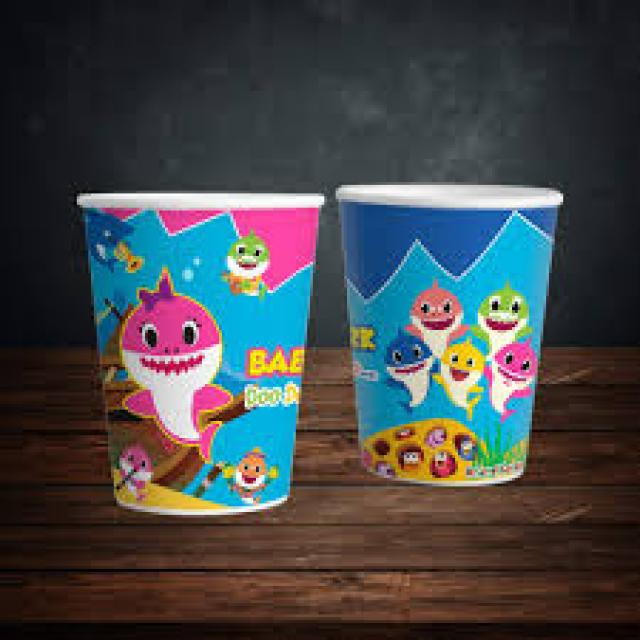PaperCardboard: (76, 182, 328, 515), (331, 179, 562, 482)
